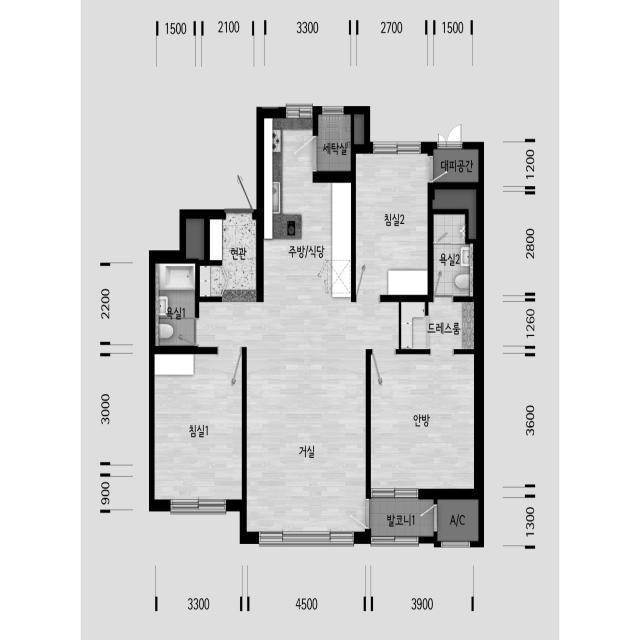space_balconi: (371, 499, 434, 536), (318, 115, 351, 171)
space_bedroom: (372, 353, 475, 488), (155, 353, 243, 500), (356, 153, 428, 294)
space_dressroom: (402, 301, 474, 348)
space_front: (201, 218, 257, 301)
space_kitchen: (264, 118, 352, 301)
space_living_room: (200, 301, 399, 532)
space_other: (432, 189, 476, 239), (438, 499, 479, 540), (434, 150, 478, 182), (187, 218, 204, 258), (355, 114, 364, 144)
space_toilet: (156, 262, 196, 345), (434, 214, 473, 296)
